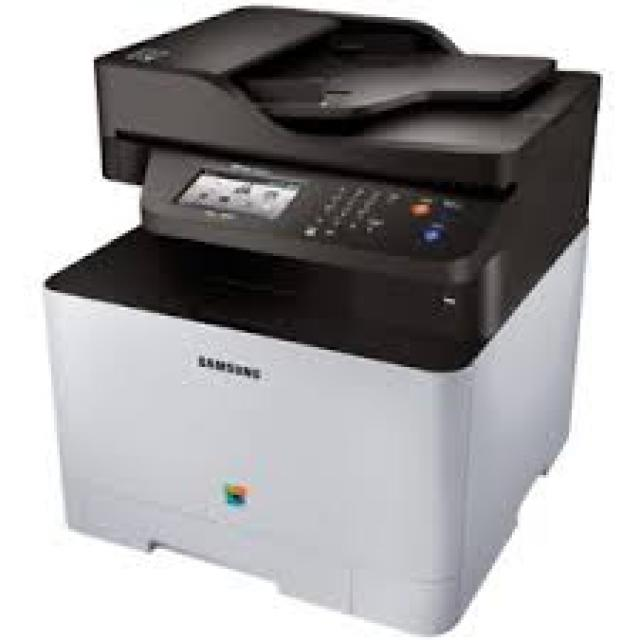printer: (33, 0, 608, 634)
